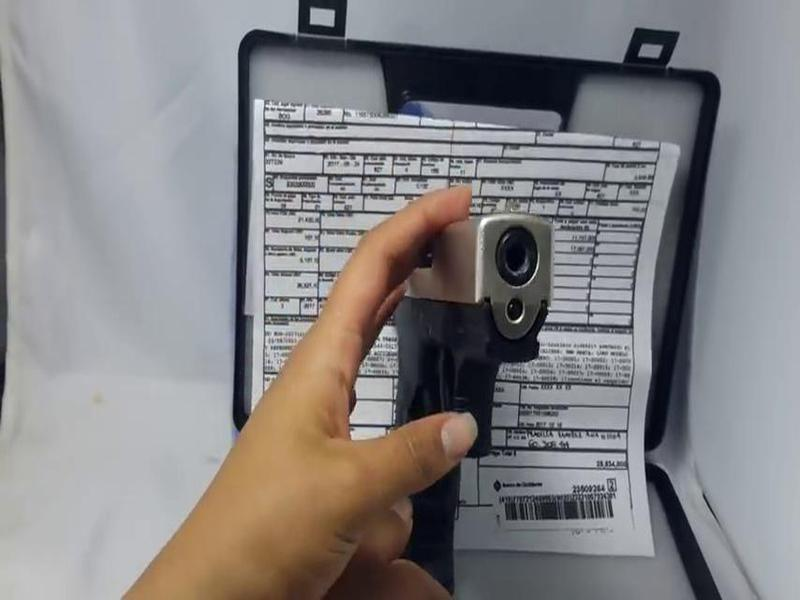Pistola: (357, 202, 569, 594)
